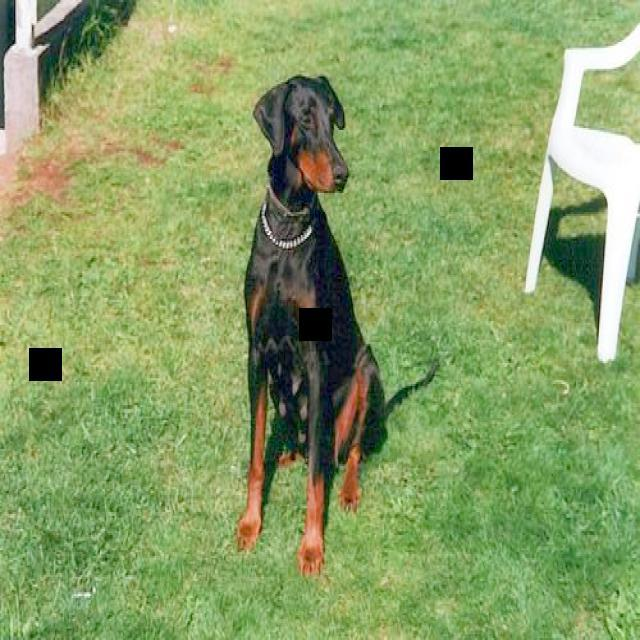adult_dog: (235, 66, 385, 582)
